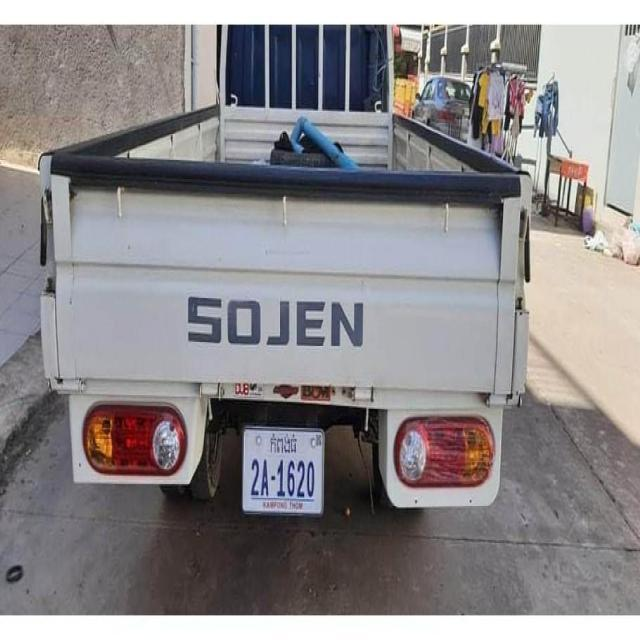Kampong_Thom: (271, 432, 298, 456)
